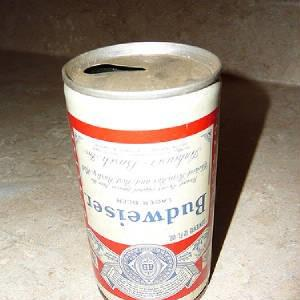beer: (61, 41, 230, 300)
